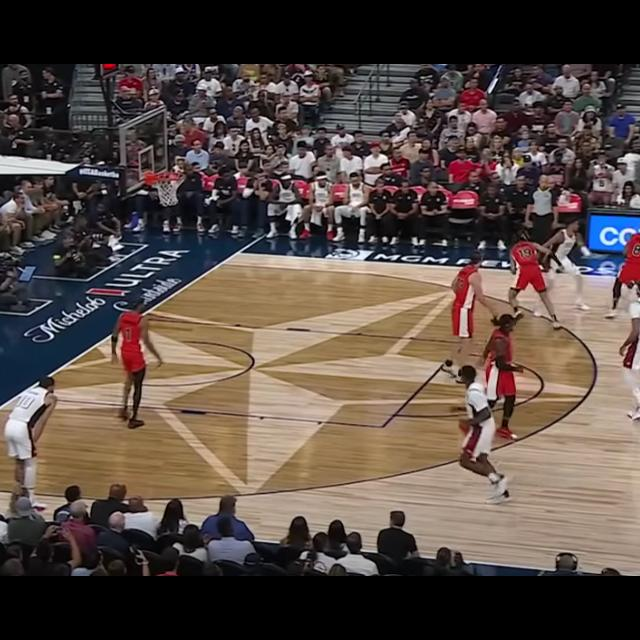hoop: (147, 168, 190, 208)
person: (447, 364, 511, 504), (3, 368, 53, 511), (112, 296, 159, 426), (484, 306, 525, 445), (508, 232, 562, 334), (546, 219, 595, 319), (448, 250, 487, 375), (609, 218, 640, 322), (619, 278, 640, 424)
